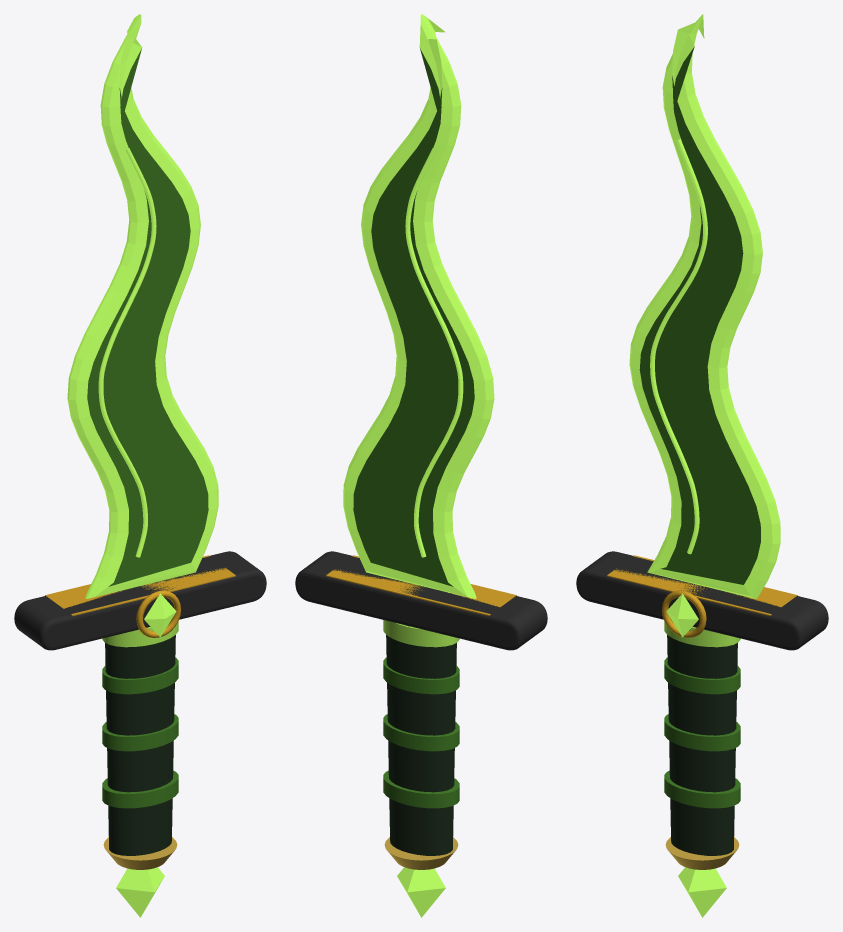
File: 19_Rare_Venom_Kris.glb
3 renders of one model, left to right at view 1: azimuth 30°, elevation 25°; view 2: azimuth 150°, elevation 25°; view 3: azimuth 330°, elevation 25°, orthographic.
Parts seen in each view (by area): view 1: blade_2, handle_3, guard_0, blade_inlay_11, guard_trim_12, pommel_gem_9, handle_band_6, handle_band_5, handle_band_4, pommel_cap_8, gem_bezel_13, ferrule_7 (+1 smaller); view 2: blade_2, handle_3, guard_0, blade_inlay_10, guard_trim_12, pommel_gem_9, handle_band_6, handle_band_5, handle_band_4, ferrule_7, pommel_cap_8; view 3: blade_2, handle_3, guard_0, blade_inlay_11, guard_trim_12, pommel_gem_9, handle_band_6, handle_band_5, handle_band_4, pommel_cap_8, gem_bezel_13, ferrule_7 (+1 smaller).
Boxes of the visible parts, left/top/right/bottom form: blade_2: left=67, top=14, right=218, bottom=598; handle_3: left=105, top=635, right=175, bottom=855; guard_0: left=14, top=551, right=266, bottom=650; blade_inlay_11: left=98, top=148, right=156, bottom=557; guard_trim_12: left=45, top=555, right=235, bottom=615; pommel_gem_9: left=116, top=867, right=164, bottom=917; handle_band_6: left=102, top=770, right=178, bottom=808; handle_band_5: left=102, top=714, right=178, bottom=751; handle_band_4: left=102, top=657, right=178, bottom=694; pommel_cap_8: left=103, top=837, right=177, bottom=869; gem_bezel_13: left=136, top=590, right=180, bottom=637; ferrule_7: left=102, top=621, right=178, bottom=647; blade_2: left=343, top=14, right=494, bottom=598; handle_3: left=386, top=625, right=456, bottom=855; guard_0: left=295, top=551, right=547, bottom=650; blade_inlay_10: left=405, top=148, right=463, bottom=557; guard_trim_12: left=326, top=555, right=516, bottom=615; pommel_gem_9: left=397, top=867, right=445, bottom=917; handle_band_6: left=383, top=770, right=459, bottom=808; handle_band_5: left=383, top=714, right=459, bottom=751; handle_band_4: left=383, top=657, right=459, bottom=694; ferrule_7: left=383, top=620, right=459, bottom=647; pommel_cap_8: left=384, top=837, right=458, bottom=869; blade_2: left=629, top=14, right=780, bottom=598; handle_3: left=667, top=635, right=737, bottom=855; guard_0: left=576, top=551, right=828, bottom=650; blade_inlay_11: left=650, top=139, right=707, bottom=554; guard_trim_12: left=607, top=555, right=797, bottom=615; pommel_gem_9: left=678, top=867, right=726, bottom=917; handle_band_6: left=664, top=770, right=740, bottom=808; handle_band_5: left=664, top=714, right=740, bottom=751; handle_band_4: left=664, top=657, right=740, bottom=694; pommel_cap_8: left=665, top=837, right=739, bottom=869; gem_bezel_13: left=662, top=590, right=706, bottom=637; ferrule_7: left=664, top=621, right=740, bottom=647.
Bounding box in the file's own units: 0.166 × 0.6332 × 0.0547.
Materials: 8 (8 with a texture image).
